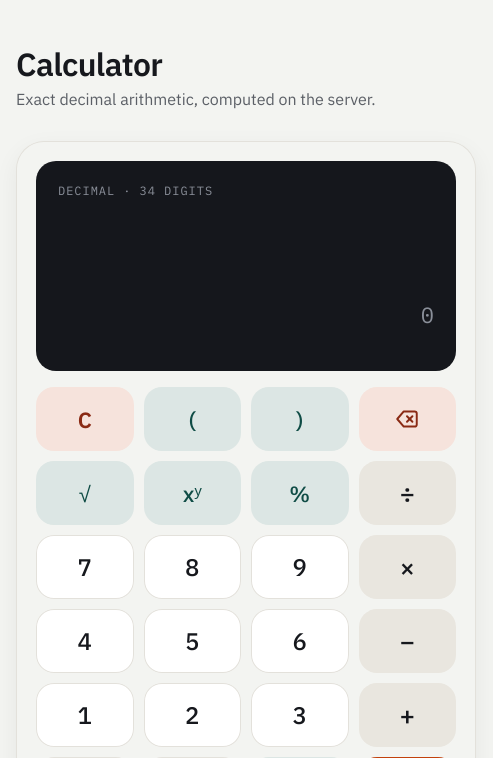
Test: App › shows a rounded result with ≈, a smaller font and the exact value
Click the button "1" at (85, 715), box [36,683,134,747]
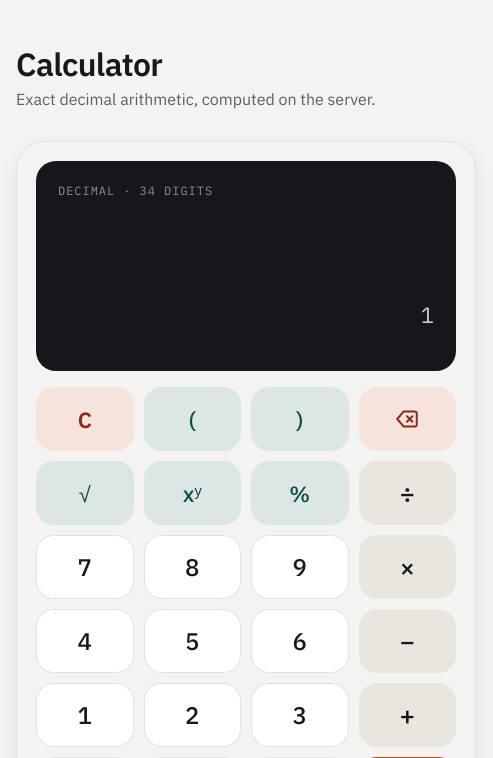
Click the button named "Divide" at (407, 493), box [358,461,456,525]
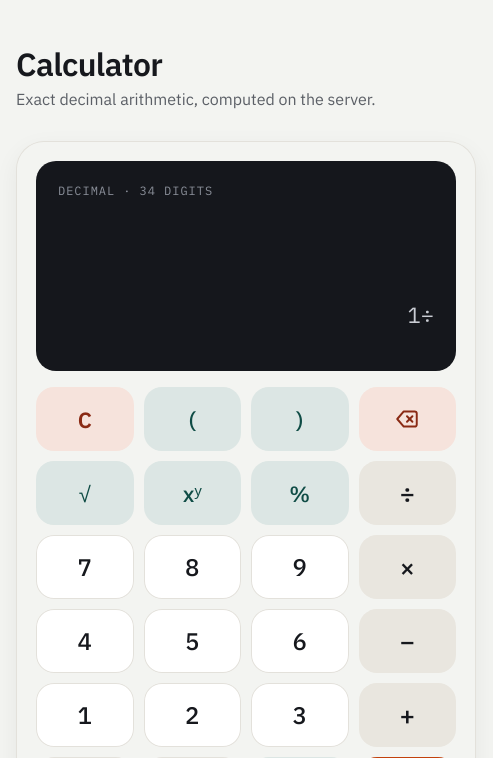
Click the button "3" at (300, 715), box [251,683,348,747]
(page scrolled)
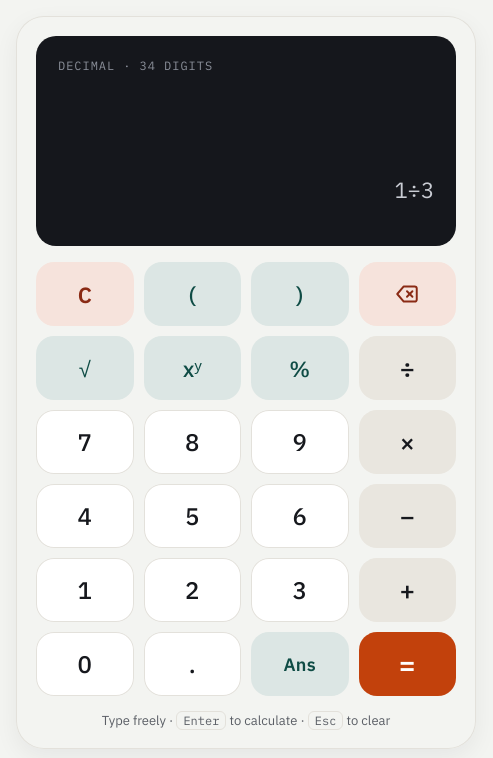
Click the button named "Calculate" at (407, 664), box [358,632,456,696]
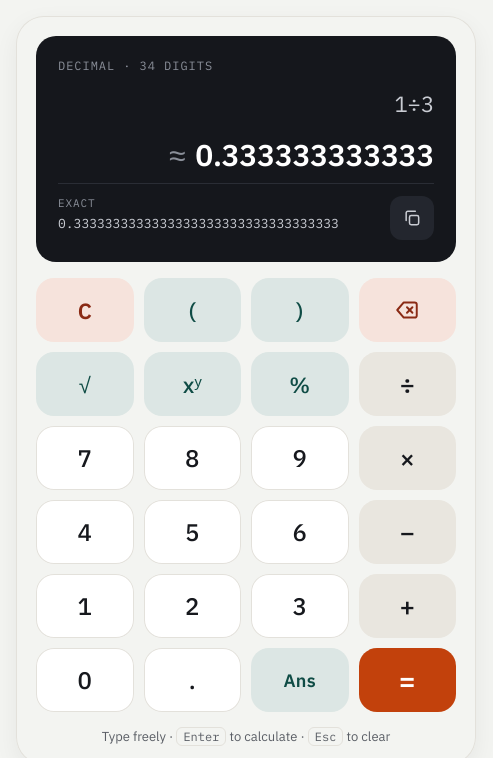
Now the text with class "marker" reads "≈", box [169,135,185,174]
Now the text "0.3333333333333333333333333333333333" is shown, box [58,214,382,234]
